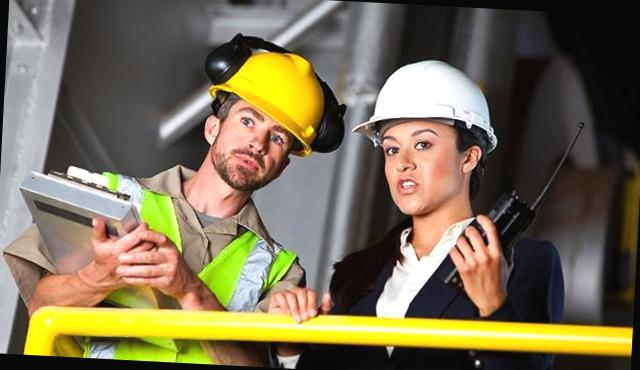helmet: (212, 48, 334, 142), (348, 59, 502, 130)
no_vest: (349, 195, 528, 370)
person: (30, 26, 343, 370), (311, 54, 577, 370)
